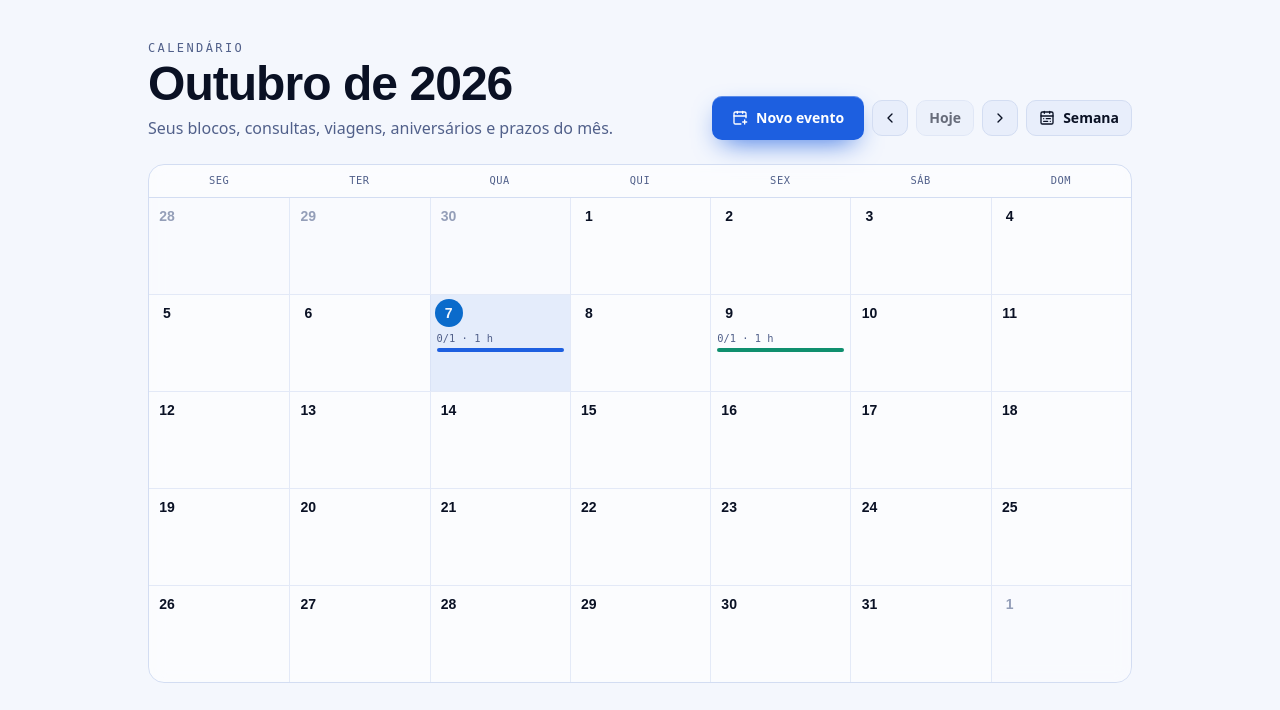
CalendarPage: blocos no mês › escolher outro dia troca a lista de blocos
This screenshot has width=1280, height=710.
Click the button named "sexta-feira, 9 de outubro de 2026" at (729, 313), box [715,299,743,327]
(page scrolled)
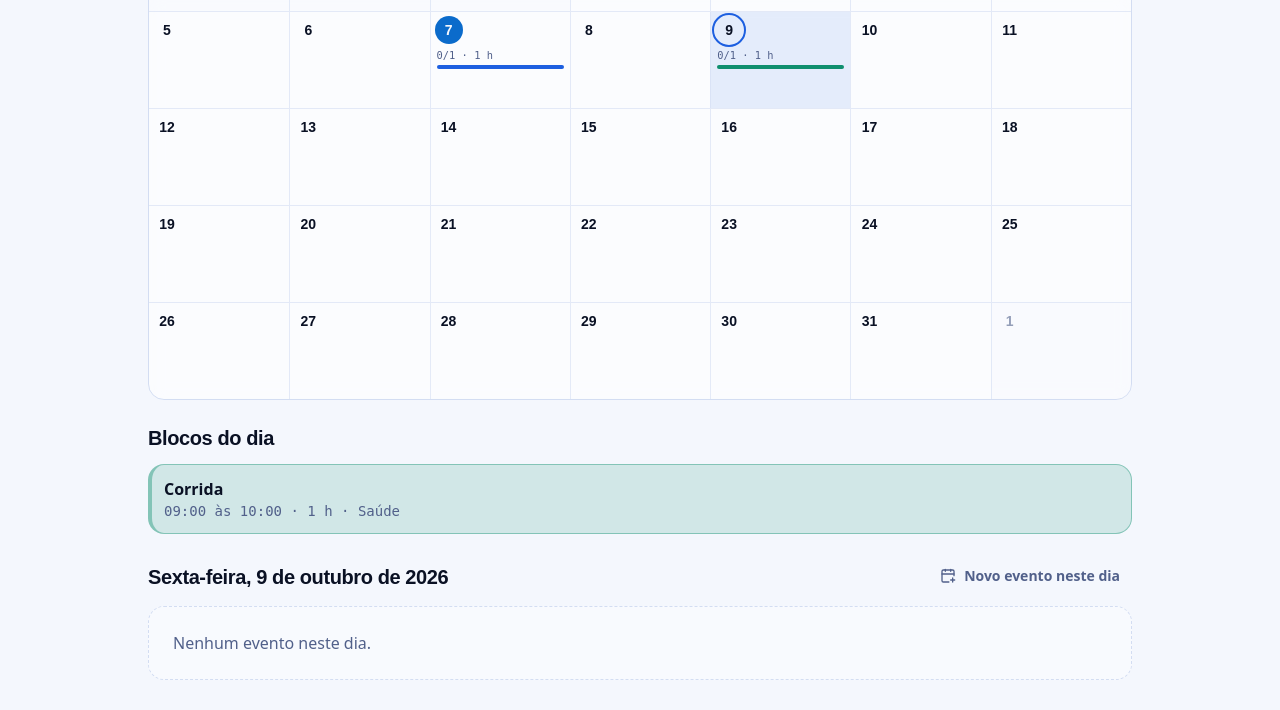
Expected: the text "Corrida" is shown, [164,478,223,500]
